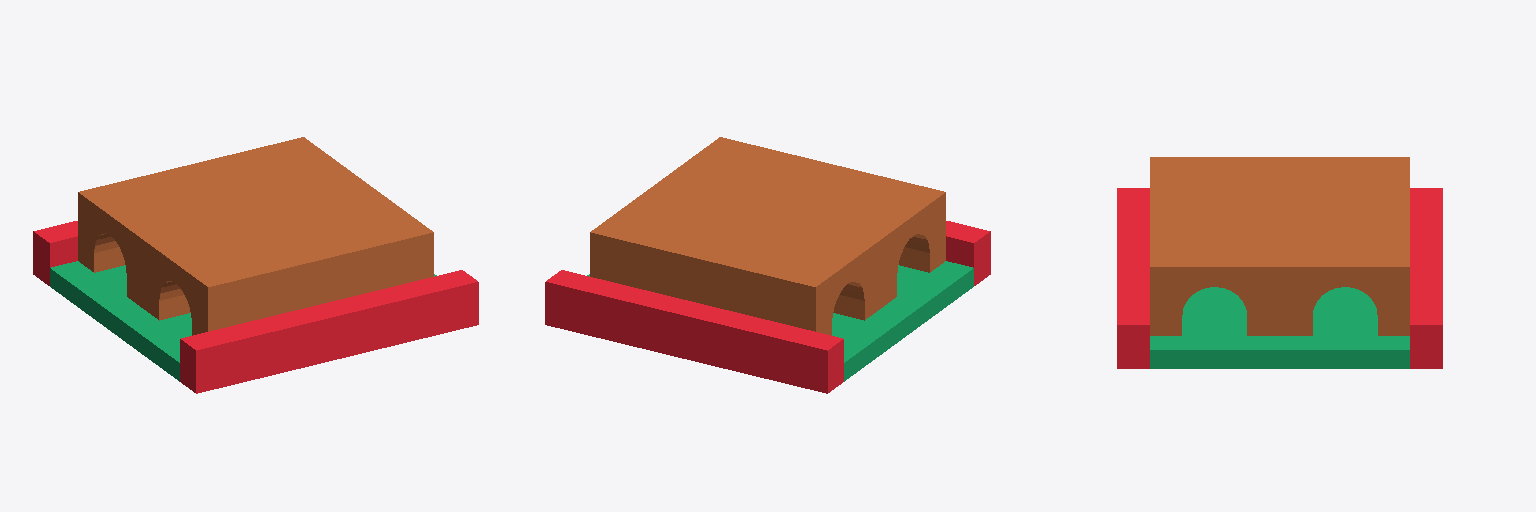
3 views of the same model, side by side, from view 1: azimuth 30°, elevation 25°; view 2: azimuth 150°, elevation 25°; view 3: azimuth 270°, elevation 25° (orthographic).
Visible parts, largest first — view 1: tunnelDouble; view 2: tunnelDouble; view 3: tunnelDouble.
Part boxes in pixels (x1,y1,x2,y2): tunnelDouble: (33, 137, 478, 393); tunnelDouble: (545, 137, 990, 393); tunnelDouble: (1117, 157, 1442, 368).
Bounding box in the file's own units: 1 × 0.2967 × 1.